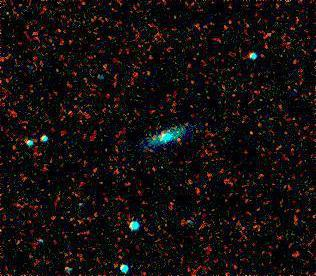star: (164, 126, 194, 156)
